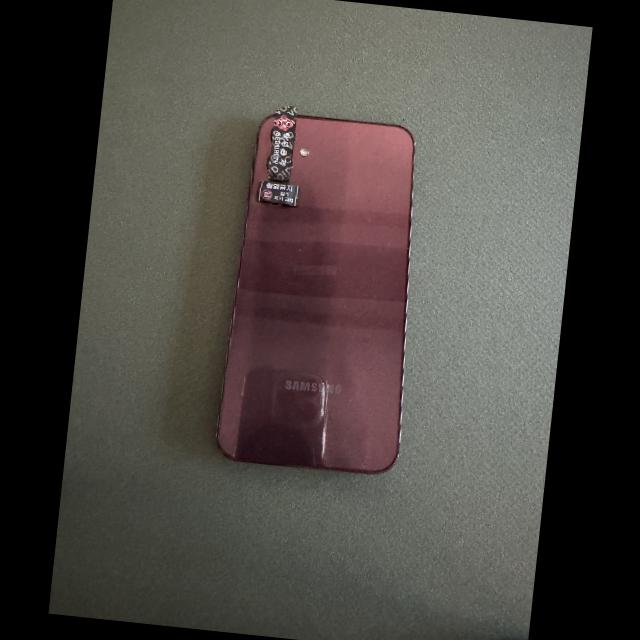lens: (270, 128, 273, 141), (271, 180, 284, 183), (267, 157, 269, 169)
phone: (217, 113, 414, 474)
sticker: (267, 105, 296, 180), (256, 181, 299, 206)
